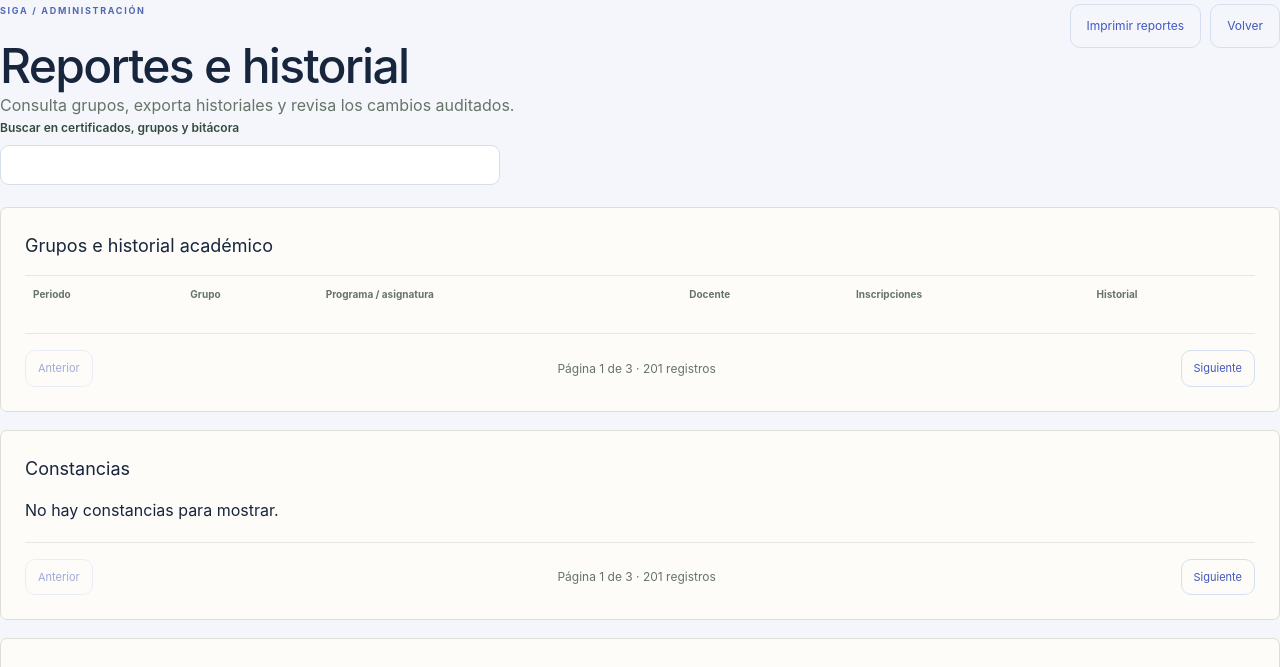
Test case: pagina reportes por separado y reinicia sus páginas al buscar
The image size is (1280, 667).
Step 1. Click the button "Siguiente" below "Inscripciones" → (1218, 369), box [1180,350,1255,387]
(page scrolled)
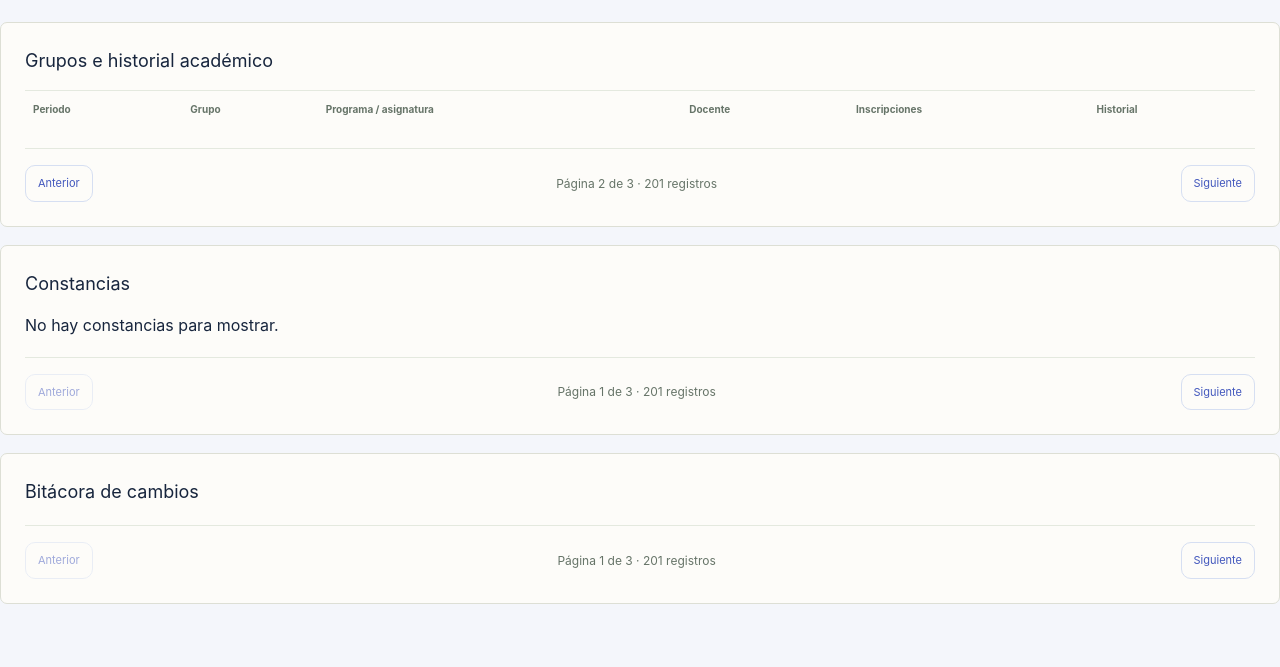
expect the 1st text "Página 1 de 3 · 201 registros" is shown: met, box [557,383,716,401]
expect the navigation bar named "Paginación de grupos" shows "Página 2 de 3": met, box [25,148,1255,202]
Step 2. Click the 3rd button "Siguiente" → (1218, 561), box [1180,542,1255,579]
(page scrolled)
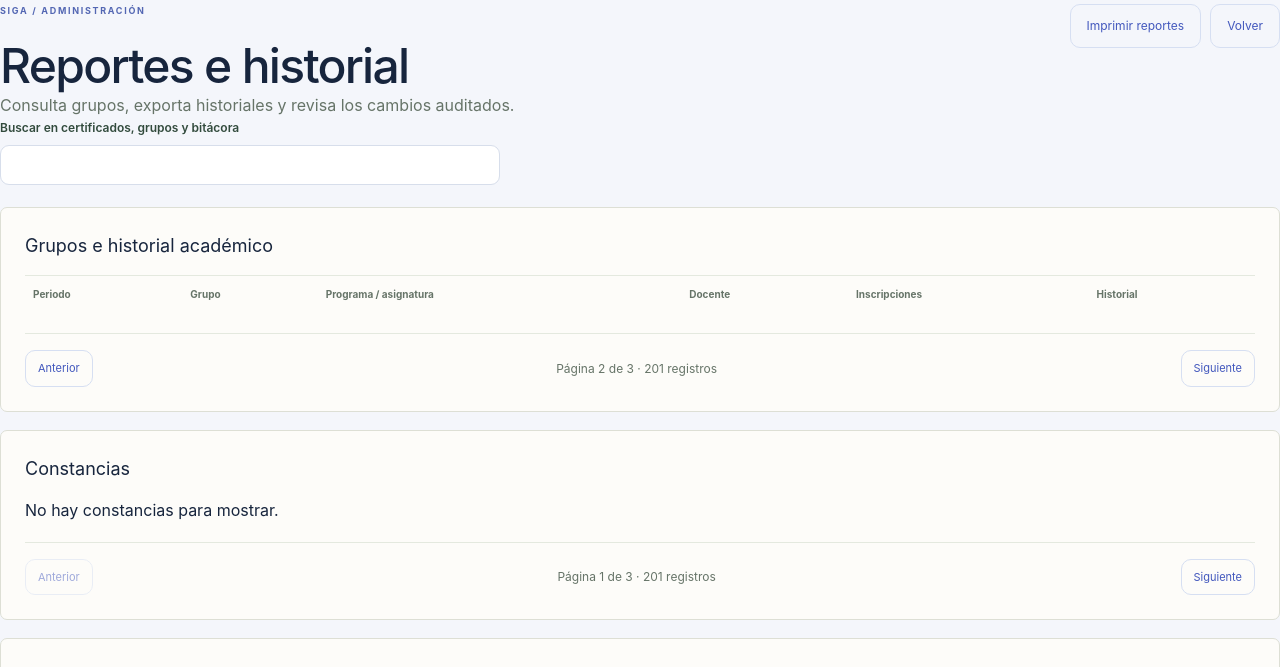
Step 3. Type "Ana" into the field labelled "Buscar en certificados, grupos y bitácora" → (250, 166), box [0,146,500,186]
(page scrolled)
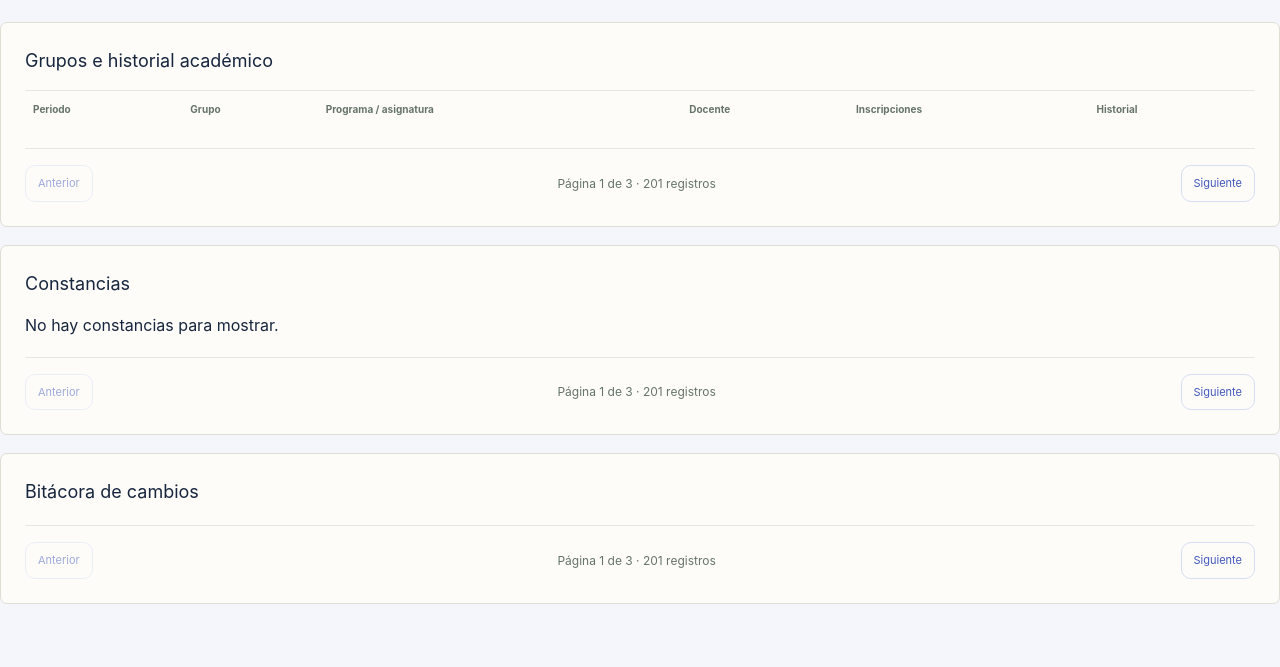
expect the navigation bar named "Paginación de grupos" shows "Página 1 de 3": met, box [25,148,1255,202]
expect the navigation bar named "Paginación de bitácora" shows "Página 1 de 3": met, box [25,526,1255,579]
